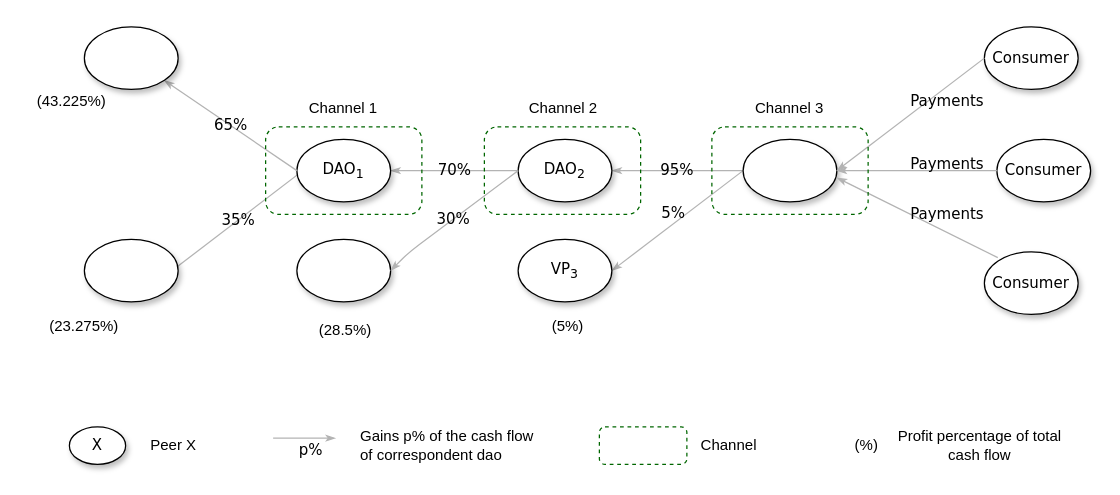
Image size: 1120x495. Some labels were removed from this diagram. The shapes that lost their labels are listed below. From the top down, each one's centre as x and y in pixels, then its label:
At (132,59): "DSP".
At (790,172): "DAO 3".
At (132,272): "VP 1".
At (344,272): "VP 2".
